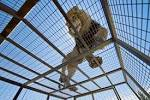lion: (54, 10, 112, 99)
